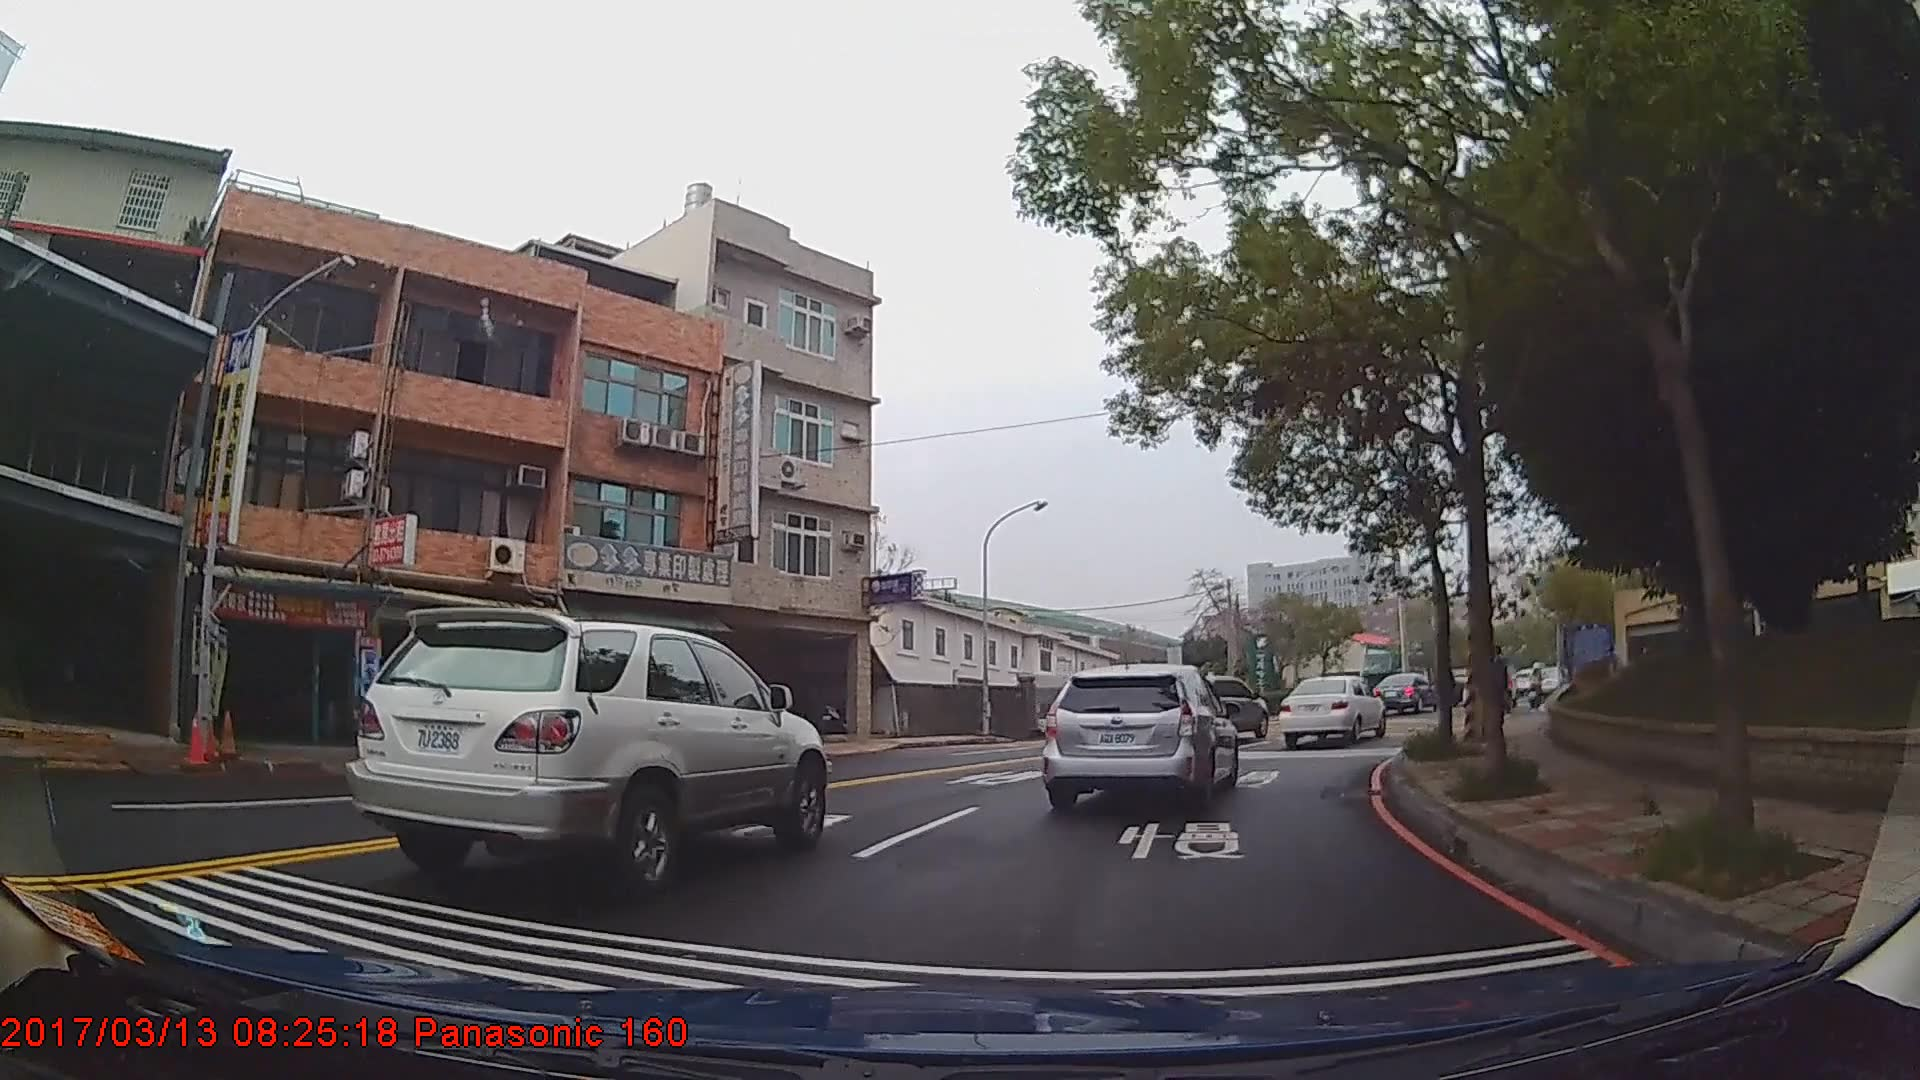vehicle: (344, 605, 827, 897), (1036, 659, 1236, 810), (1273, 671, 1383, 744), (1174, 673, 1266, 742), (1367, 667, 1435, 715)
